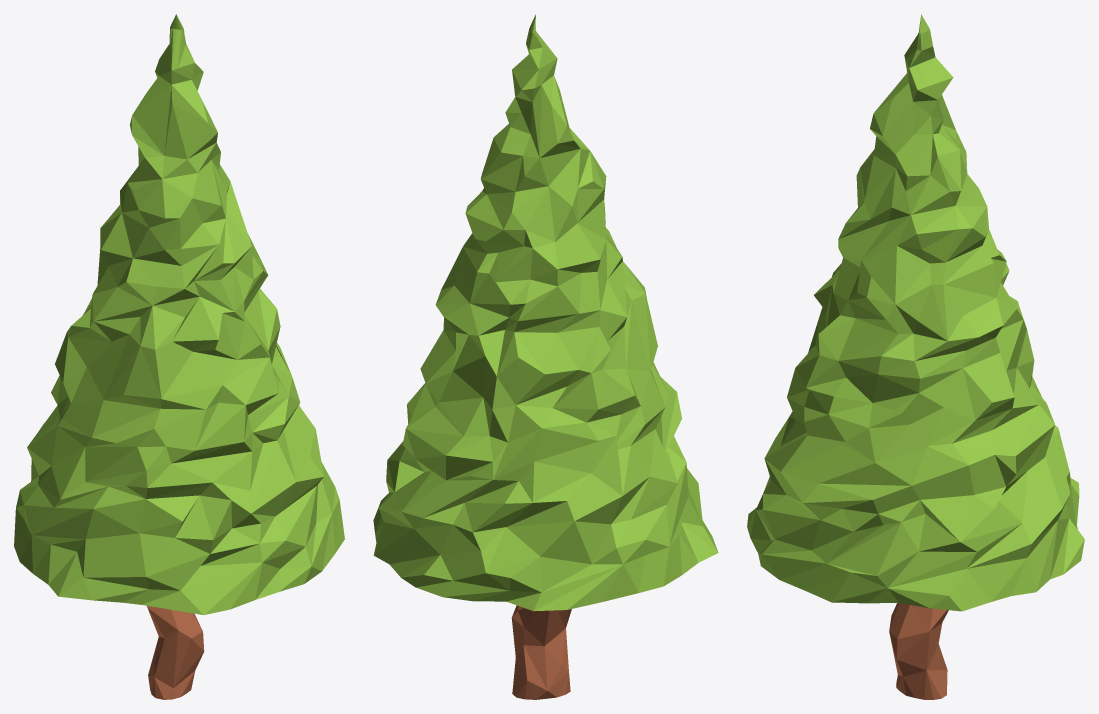
File: tree2.glb
The picture shows the model from 3 angles, left to right: view 1: azimuth 30°, elevation 25°; view 2: azimuth 150°, elevation 25°; view 3: azimuth 270°, elevation 25°; orthographic projection.
Parts seen in each view (by area): view 1: Cone001, Cylinder001; view 2: Cone001, Cylinder001; view 3: Cone001, Cylinder001.
Part boxes in pixels (<box>): Cone001: <box>14,14,344,614</box>; Cylinder001: <box>147,606,204,699</box>; Cone001: <box>373,14,718,611</box>; Cylinder001: <box>511,605,571,699</box>; Cone001: <box>747,14,1084,611</box>; Cylinder001: <box>889,603,948,699</box>.
Bounding box in the file's own units: 0.204 × 0.45 × 0.2032.
